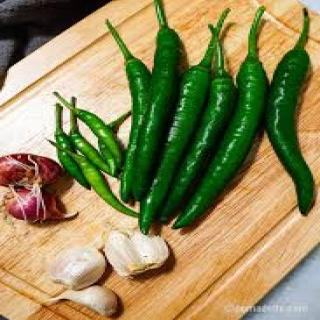Cabai Hijau: (174, 7, 270, 230), (137, 68, 215, 233), (157, 76, 238, 223), (265, 33, 315, 216), (132, 27, 183, 196), (75, 158, 140, 216), (74, 108, 124, 161), (72, 133, 121, 177)
